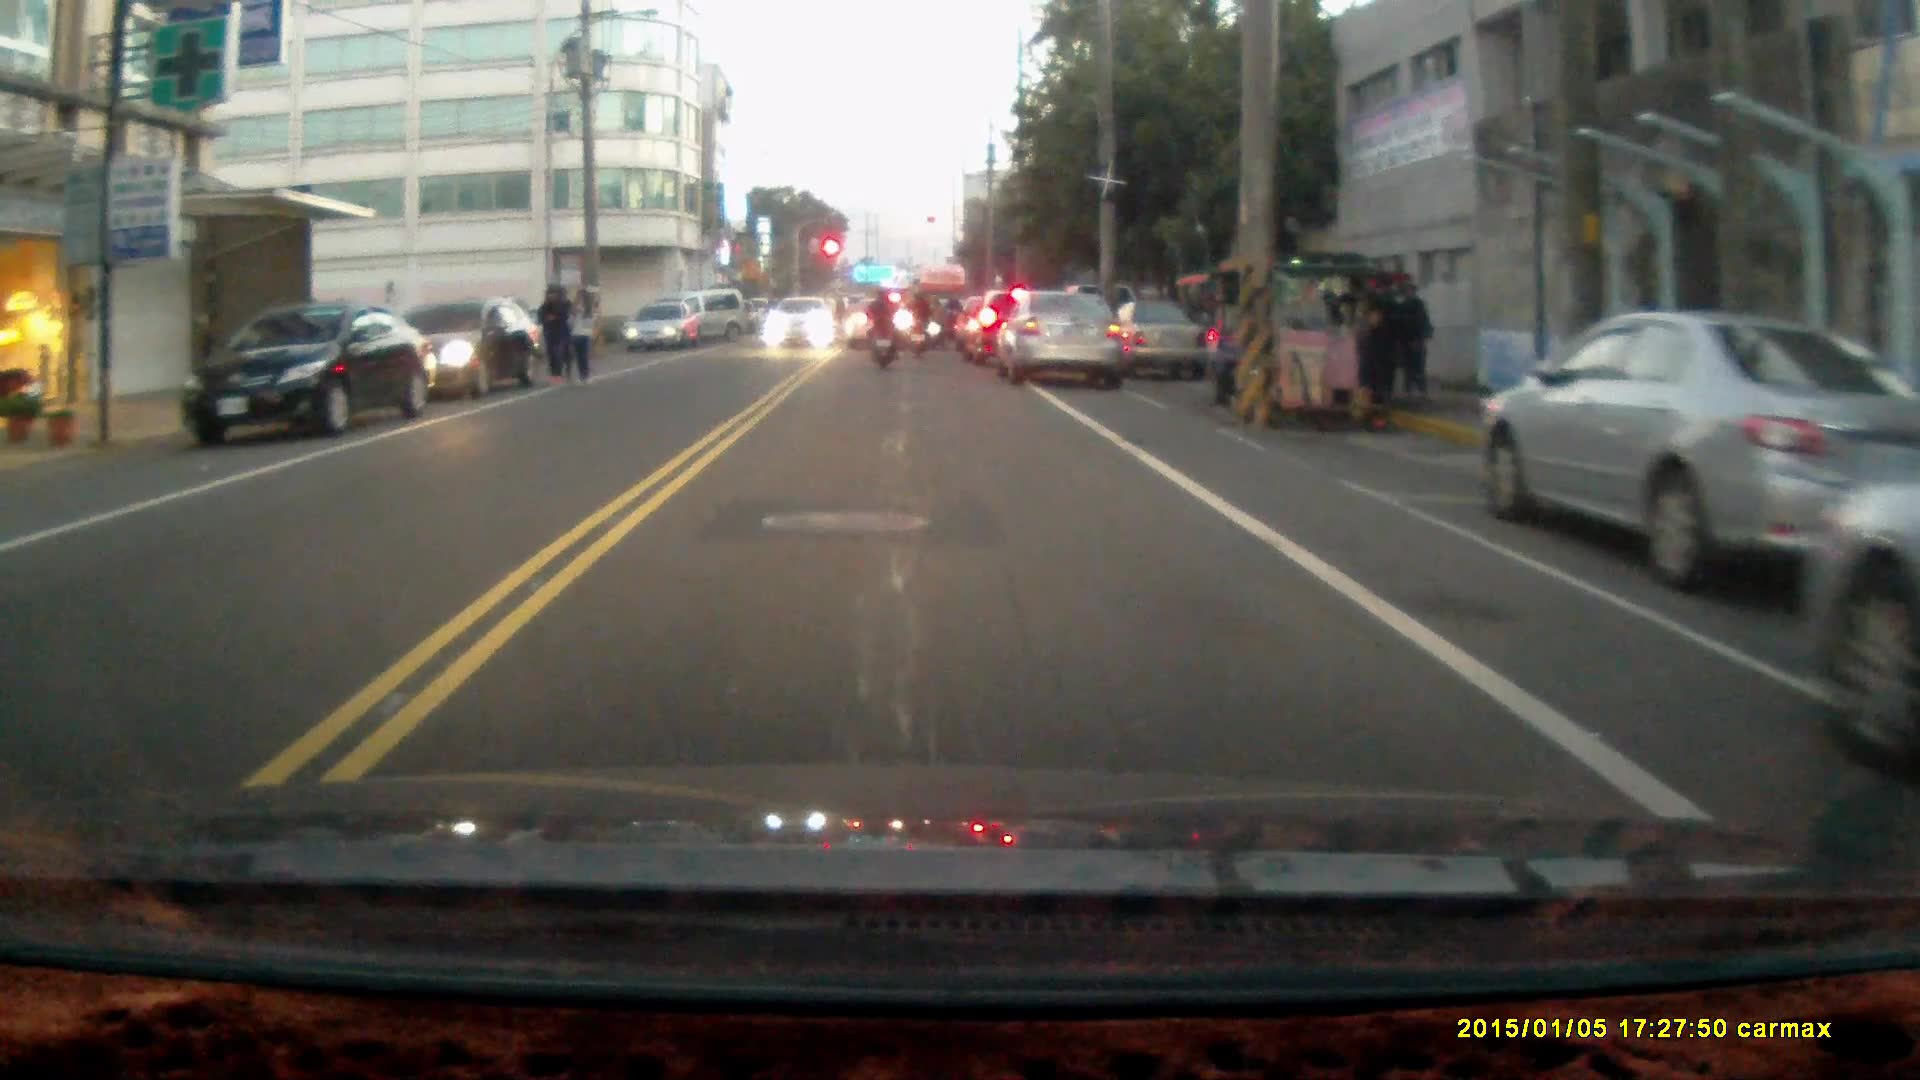pedestrian: (1393, 279, 1436, 403), (536, 280, 575, 386), (568, 286, 596, 387)
rider: (864, 283, 899, 370), (902, 288, 933, 361)
vehicle: (1475, 312, 1920, 591), (1202, 253, 1424, 425), (1804, 460, 1920, 767), (184, 298, 431, 442), (400, 298, 550, 403), (1002, 288, 1131, 389), (767, 293, 843, 351), (628, 299, 710, 351)
